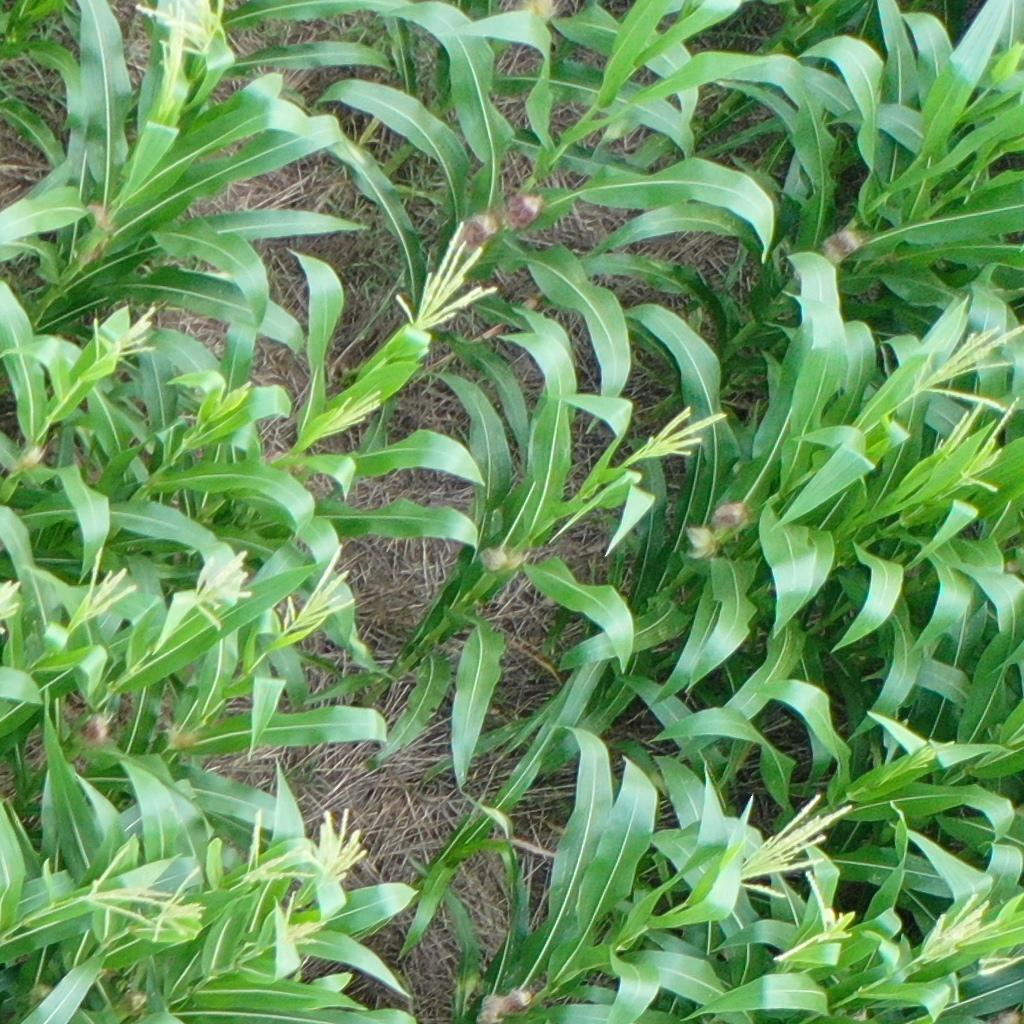Tassel: (735, 793, 851, 898), (396, 220, 499, 336), (918, 321, 1024, 414), (80, 846, 171, 936), (943, 395, 1019, 497), (768, 872, 848, 965), (282, 542, 356, 635), (240, 803, 320, 882), (920, 893, 990, 966), (73, 546, 139, 623), (193, 550, 255, 631), (639, 403, 730, 458), (135, 1, 228, 53), (312, 806, 370, 885), (150, 868, 210, 942), (88, 304, 156, 366), (316, 388, 383, 443), (278, 886, 330, 949), (155, 8, 188, 106), (213, 375, 256, 419), (913, 736, 955, 772), (1, 577, 20, 634)
